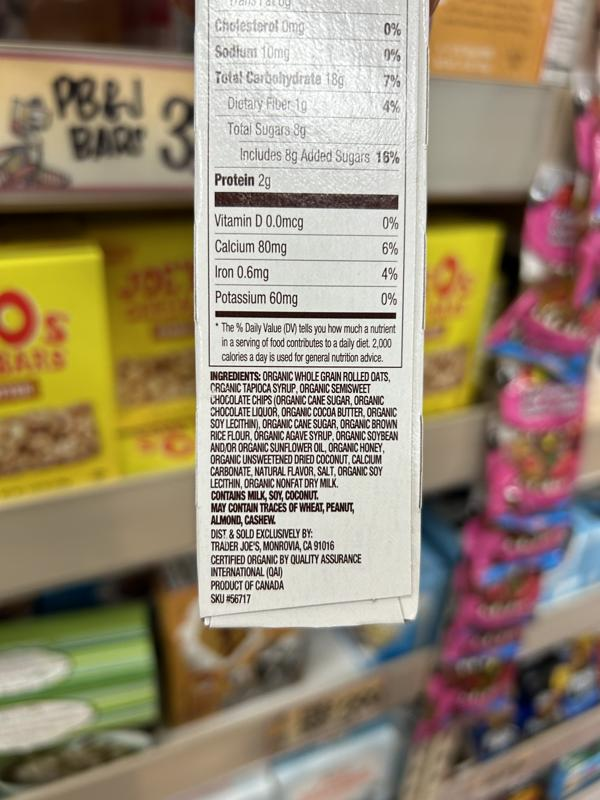ingredients: (207, 369, 399, 491)
